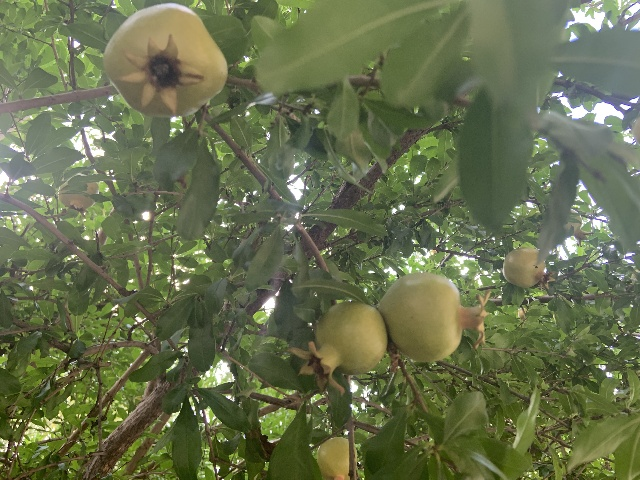mid-growth: (102, 2, 227, 116), (377, 272, 490, 362), (286, 300, 387, 396), (502, 247, 556, 290), (58, 173, 99, 219), (315, 436, 357, 480), (563, 208, 593, 246)
